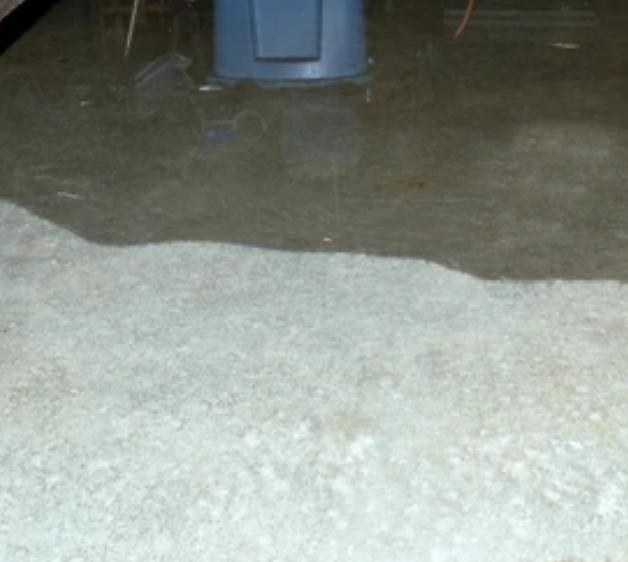water accumulation: (2, 0, 628, 282)
